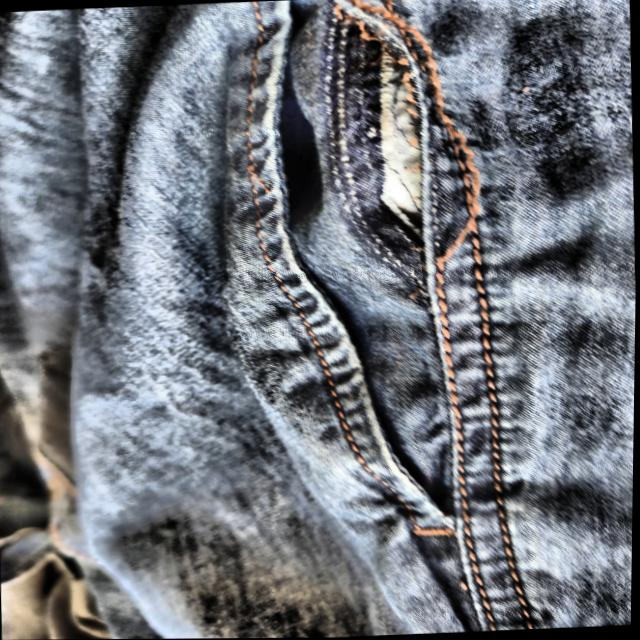seam: (350, 0, 471, 267)
